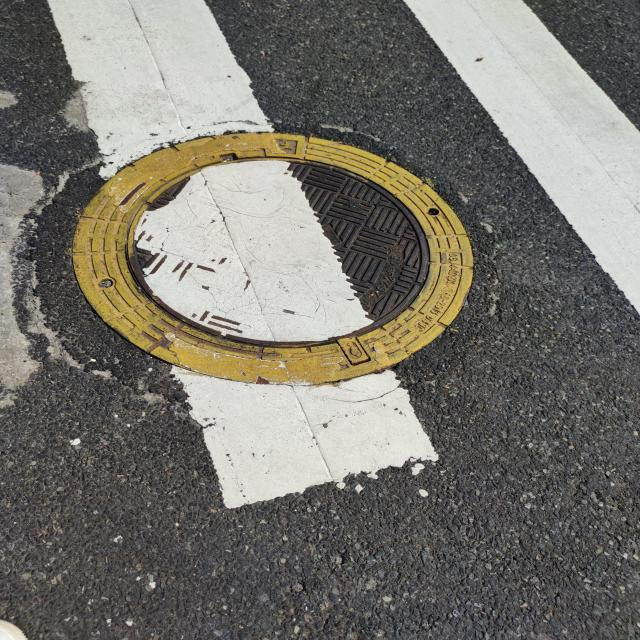Good: (65, 128, 484, 389)
